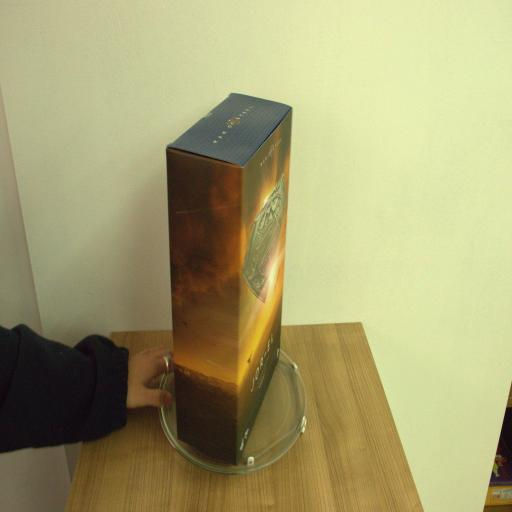superman: (166, 92, 294, 460)
